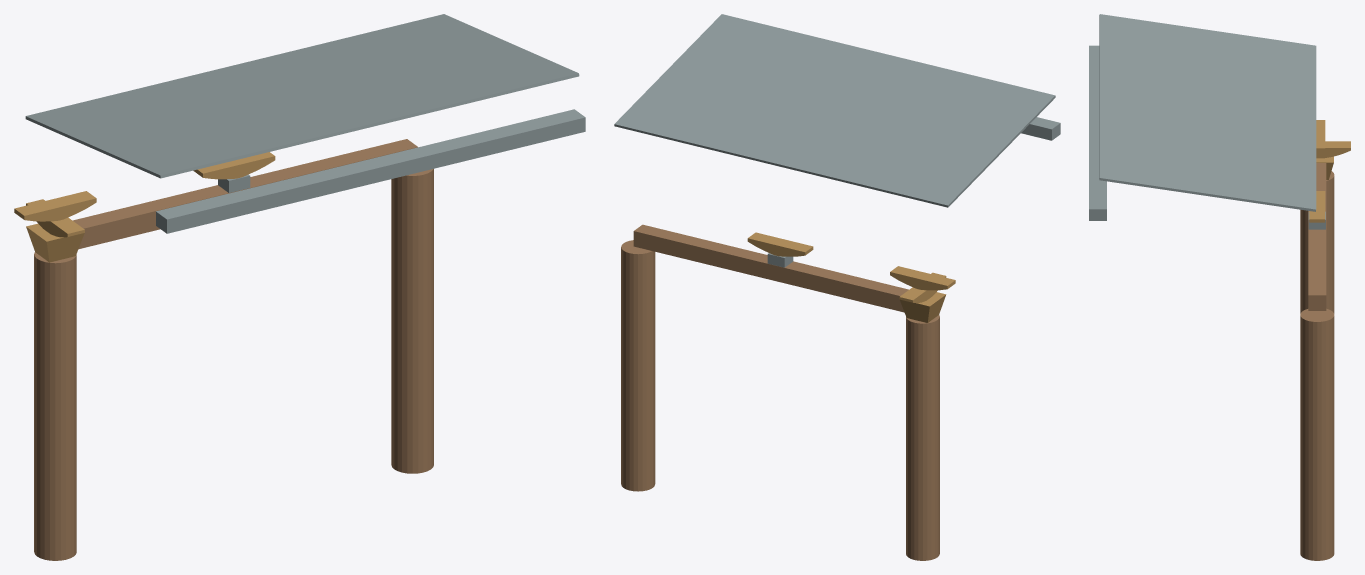
The model's file is C01_BRACKET_EAVE_TRIAL.glb.
The picture shows the model from 3 angles, left to right: view 1: azimuth 30°, elevation 25°; view 2: azimuth 150°, elevation 25°; view 3: azimuth 270°, elevation 25°; orthographic projection. The views are drawn at different scales.
Visible parts, largest first — view 1: TEMP_ROOF_PREVIEW_STRIP, TMP_COLUMN_WEST, TMP_COLUMN_EAST_CONTEXT, TEMP_EAVE_PURLIN, TEMP_FRONT_FANG, COLUMN_LINGGONG_MASTER_REF, COLUMN_LUDOU_MASTER_REF, INTERCOLUMN_LINGGONG_MASTER_REF; view 2: TEMP_ROOF_PREVIEW_STRIP, TMP_COLUMN_EAST_CONTEXT, TMP_COLUMN_WEST, TEMP_FRONT_FANG, INTERCOLUMN_LINGGONG_MASTER_REF, COLUMN_LINGGONG_MASTER_REF, COLUMN_LUDOU_MASTER_REF, TEMP_EAVE_PURLIN; view 3: TEMP_ROOF_PREVIEW_STRIP, TMP_COLUMN_EAST_CONTEXT, TEMP_EAVE_PURLIN, TMP_COLUMN_WEST, TEMP_FRONT_FANG, COLUMN_HUAGONG_JUMP1_MASTER_REF, INTERCOLUMN_LINGGONG_MASTER_REF.
Boxes of the visible parts, x1,y1,x2,y2 form: TEMP_ROOF_PREVIEW_STRIP: [25, 14, 579, 178]; TMP_COLUMN_WEST: [34, 252, 76, 560]; TMP_COLUMN_EAST_CONTEXT: [391, 169, 433, 473]; TEMP_EAVE_PURLIN: [156, 109, 585, 233]; TEMP_FRONT_FANG: [73, 139, 417, 249]; COLUMN_LINGGONG_MASTER_REF: [14, 191, 96, 221]; COLUMN_LUDOU_MASTER_REF: [26, 223, 84, 262]; INTERCOLUMN_LINGGONG_MASTER_REF: [193, 152, 275, 179]; TEMP_ROOF_PREVIEW_STRIP: [614, 14, 1055, 207]; TMP_COLUMN_EAST_CONTEXT: [621, 240, 655, 491]; TMP_COLUMN_WEST: [906, 315, 939, 560]; TEMP_FRONT_FANG: [633, 224, 908, 312]; INTERCOLUMN_LINGGONG_MASTER_REF: [747, 232, 813, 256]; COLUMN_LINGGONG_MASTER_REF: [890, 266, 955, 290]; COLUMN_LUDOU_MASTER_REF: [900, 292, 946, 322]; TEMP_EAVE_PURLIN: [1021, 117, 1060, 140]; TEMP_ROOF_PREVIEW_STRIP: [1099, 14, 1316, 211]; TMP_COLUMN_EAST_CONTEXT: [1300, 308, 1334, 560]; TEMP_EAVE_PURLIN: [1089, 45, 1106, 220]; TMP_COLUMN_WEST: [1300, 171, 1334, 313]; TEMP_FRONT_FANG: [1308, 163, 1326, 310]; COLUMN_HUAGONG_JUMP1_MASTER_REF: [1316, 141, 1350, 158]; INTERCOLUMN_LINGGONG_MASTER_REF: [1309, 191, 1325, 222].
Size of the model in its own units: 5267 by 5736 by 3509.
